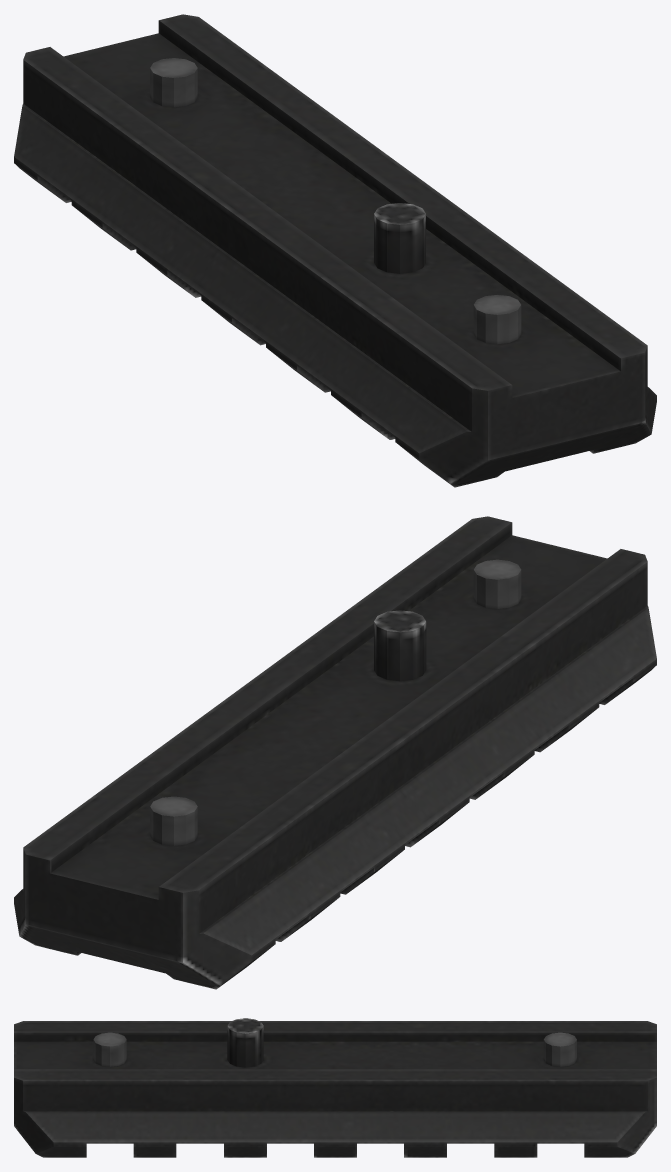
3 views of the same model, one above another, from view 1: azimuth 30°, elevation 25°; view 2: azimuth 150°, elevation 25°; view 3: azimuth 270°, elevation 25° (orthographic). The views are drawn at different scales.
Visible parts, largest first — view 1: TW_673dd5f73f92dc7e120d20a9_PZ_Import; view 2: TW_673dd5f73f92dc7e120d20a9_PZ_Import; view 3: TW_673dd5f73f92dc7e120d20a9_PZ_Import.
Part boxes in pixels (<box>): TW_673dd5f73f92dc7e120d20a9_PZ_Import: <box>14,14,656,487</box>; TW_673dd5f73f92dc7e120d20a9_PZ_Import: <box>14,516,656,989</box>; TW_673dd5f73f92dc7e120d20a9_PZ_Import: <box>14,1018,656,1157</box>.
Bounding box in the file's own units: 0.0123 × 0.0413 × 0.00716.
1 material, 1 textured.
